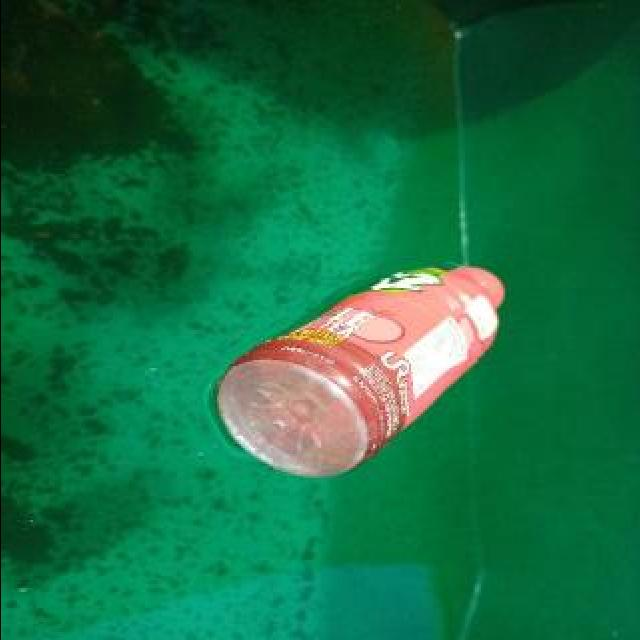Bottle: (206, 248, 512, 487)
